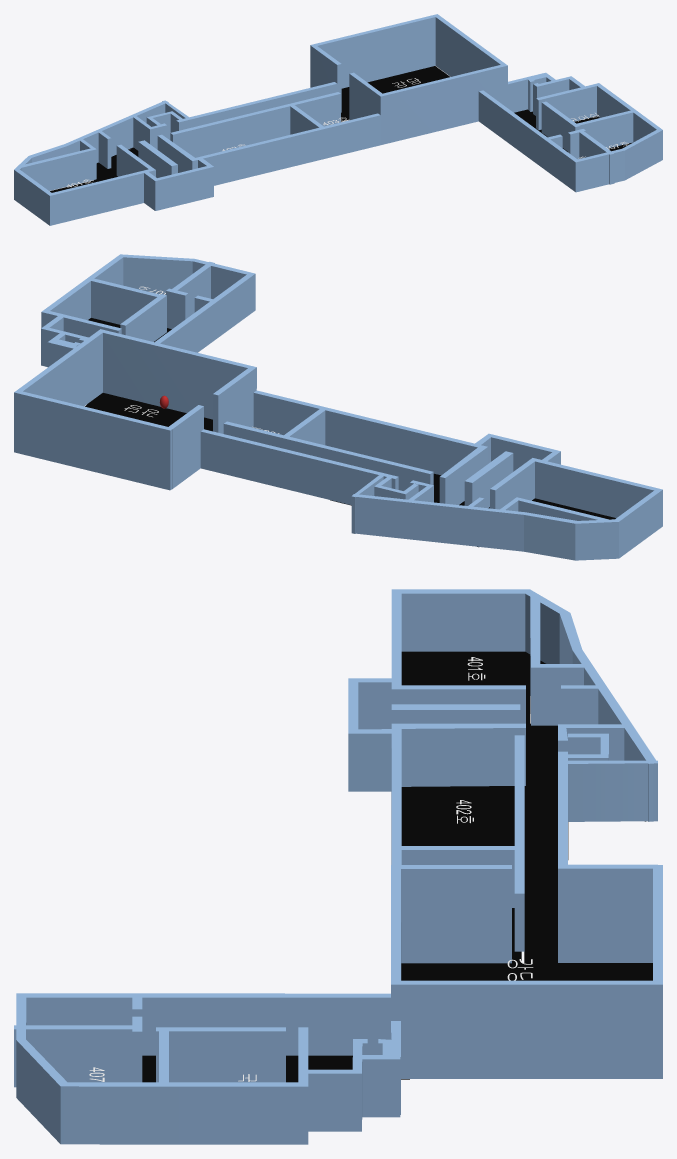
Rendered from 4floor.glb.
3 views of the same model, one above another, from view 1: azimuth 30°, elevation 25°; view 2: azimuth 150°, elevation 25°; view 3: azimuth 270°, elevation 25° (orthographic). The views are drawn at different scales.
Parts seen in each view (by area): view 1: Layer:0, Box043; view 2: Layer:0, Box044; view 3: Layer:0, Box040, Box001, Box039, Box043, Box042, Box046.
Part boxes in pixels (x1,y1,x2,y2): Layer:0: [14, 14, 662, 225]; Box043: [341, 66, 449, 118]; Layer:0: [14, 254, 662, 560]; Box044: [87, 395, 212, 431]; Layer:0: [14, 589, 662, 1144]; Box040: [401, 786, 521, 973]; Box001: [401, 651, 530, 746]; Box039: [524, 743, 568, 860]; Box043: [445, 963, 652, 980]; Box042: [524, 859, 558, 979]; Box046: [142, 1055, 352, 1082].
Size of the model in its own units: 3.8 by 0.3377 by 2.1.
